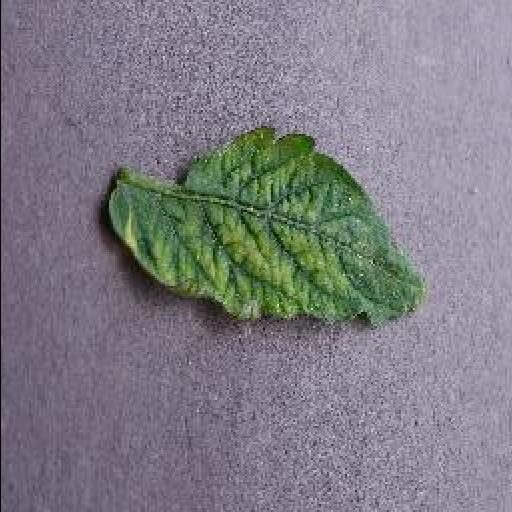disease_tomato: (106, 128, 426, 332)
